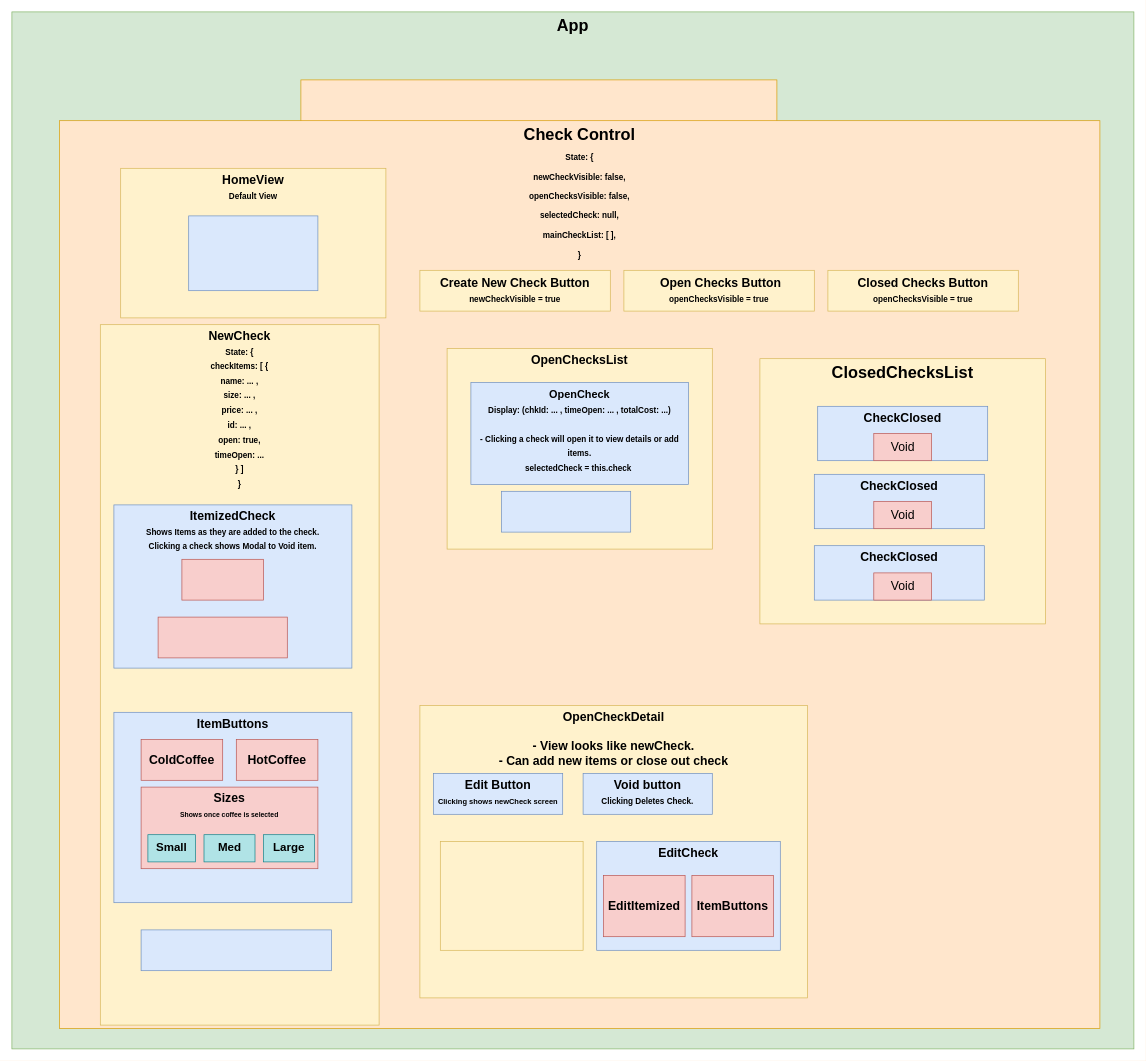
Image size: 1146x1061. Some labels were removed from this diagram. The centre of each missing label's shape, as x and y in pixels:
Header: pixel 538 103
Log in PIN pad: pixel 253 253
OpenCheck: pixel 566 511
Pay Check Form Clicking Close Check button sends check to closed checks list: pixel 511 895
Send Order: pixel 236 950
TotalPrice: pixel 222 637
Void Modal: pixel 222 579
